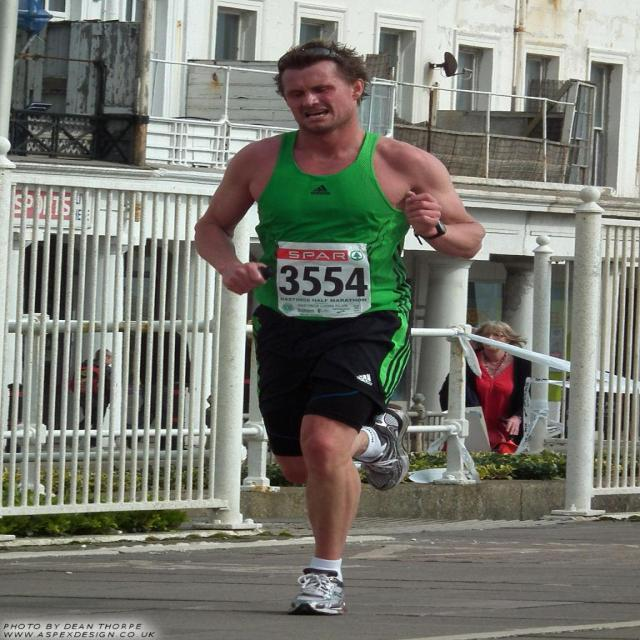Bib: (277, 266, 370, 299)
